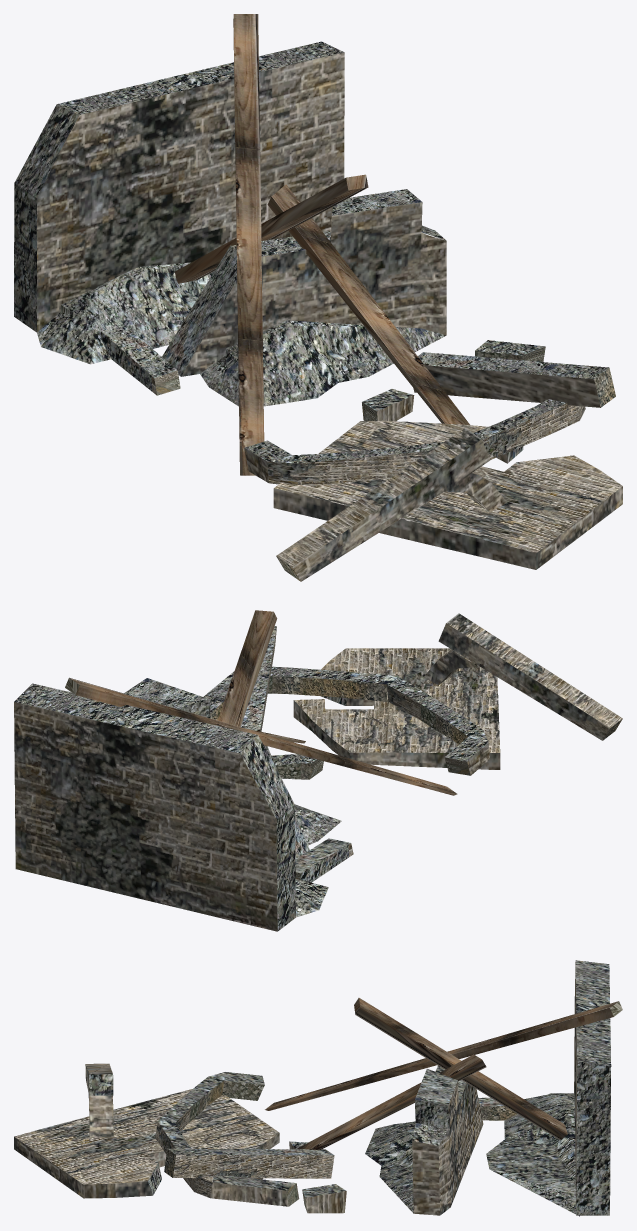
The model's file is building_ruin_03.glb.
3 renders of one model, top to bottom at view 1: azimuth 30°, elevation 25°; view 2: azimuth 150°, elevation 25°; view 3: azimuth 270°, elevation 25°, orthographic. The views are drawn at different scales.
Visible parts, largest first — view 1: building_ruin_03; view 2: building_ruin_03; view 3: building_ruin_03.
Part boxes in pixels (box(x1,y1,x2,y2)): building_ruin_03: box(14, 14, 622, 581); building_ruin_03: box(14, 610, 622, 931); building_ruin_03: box(14, 960, 622, 1216).
Bounding box in the file's own units: 7.93 × 4.61 × 13.81.
Materials: 4 (4 with a texture image).
